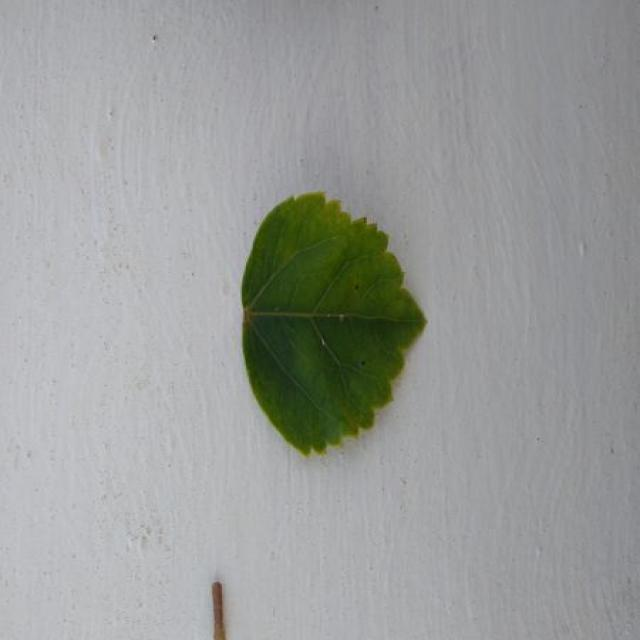Hibiscus: (242, 192, 425, 454)
